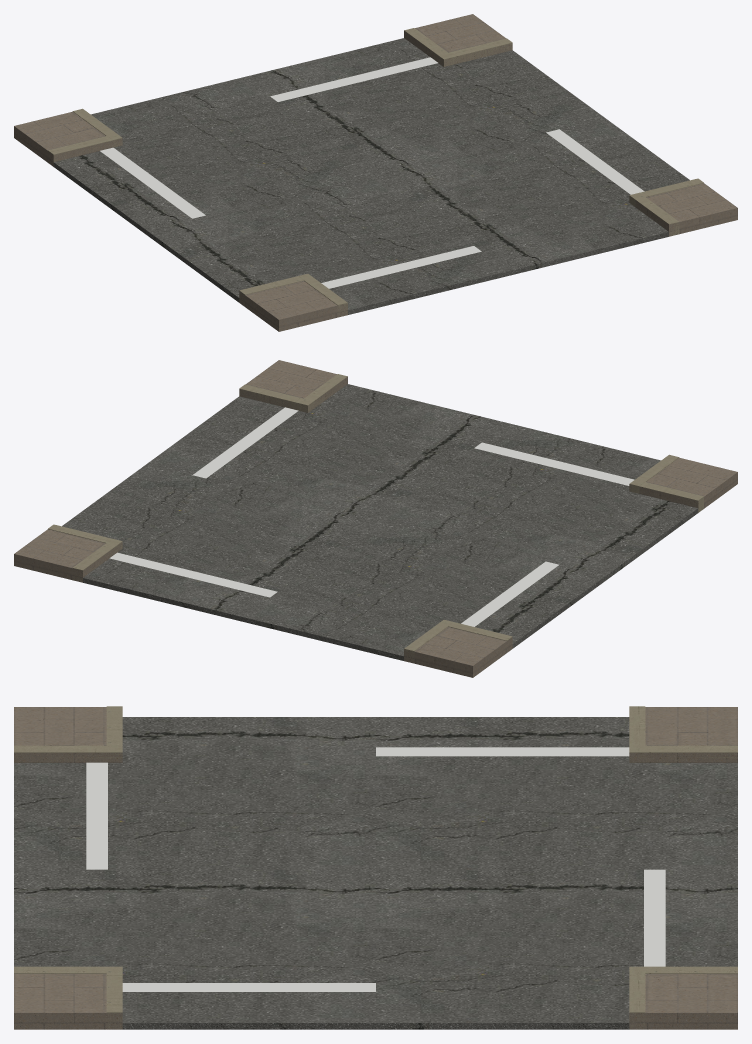
File: road_crossroads.gltf
The picture shows the model from 3 angles, top to bottom: view 1: azimuth 30°, elevation 25°; view 2: azimuth 150°, elevation 25°; view 3: azimuth 270°, elevation 25°; orthographic projection. The views are drawn at different scales.
Parts seen in each view (by area): view 1: road_crossroads; view 2: road_crossroads; view 3: road_crossroads.
Boxes of the visible parts, <box> form: road_crossroads: <box>14,14,737,331</box>; road_crossroads: <box>14,360,737,677</box>; road_crossroads: <box>14,706,737,1029</box>.
Size of what is drawn, in the model's own units: 10 by 0.26 by 10.
4 materials, 3 textured.
